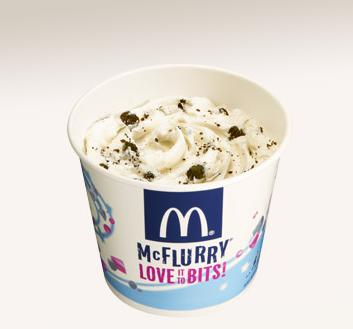mcdonalds: (158, 203, 210, 241)
